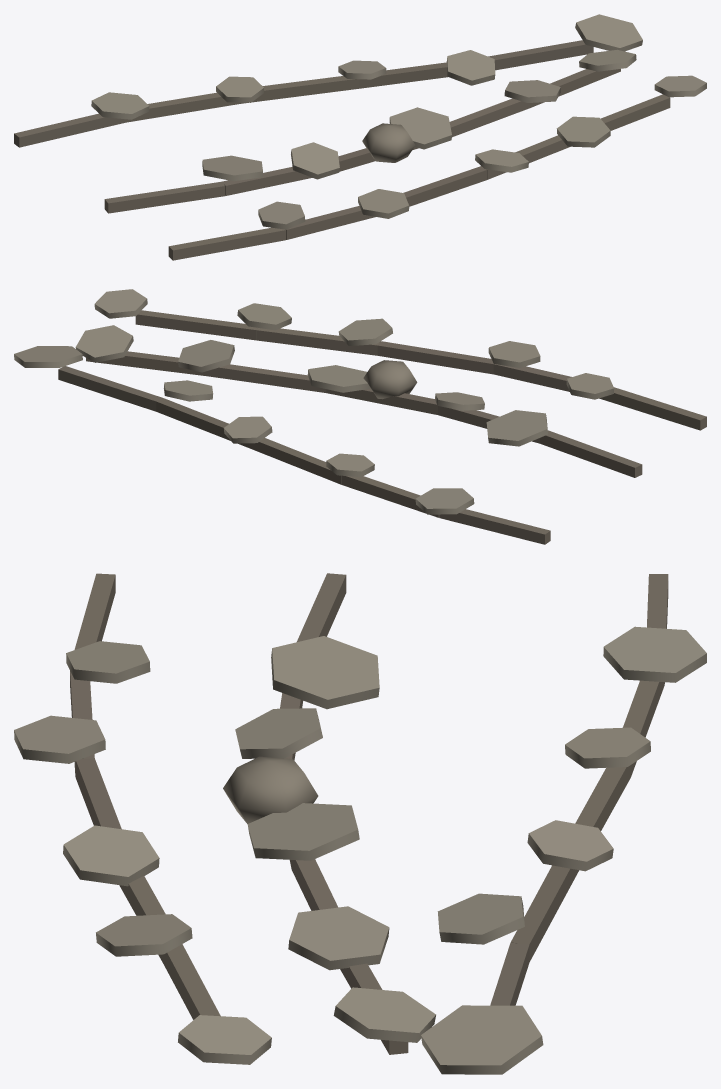
File: farm_gourd_withered.glb
The picture shows the model from 3 angles, top to bottom: view 1: azimuth 30°, elevation 25°; view 2: azimuth 150°, elevation 25°; view 3: azimuth 270°, elevation 25°; orthographic projection. The views are drawn at different scales.
Visible parts, largest first — view 1: FarmBody; view 2: FarmBody; view 3: FarmBody.
Part boxes in pixels (x1=…): FarmBody: x1=14, y1=14, x2=706, y2=260; FarmBody: x1=14, y1=289, x2=706, y2=544; FarmBody: x1=14, y1=573, x2=706, y2=1074.
Size of the model in its own units: 2.43 by 0.14 by 1.42.
